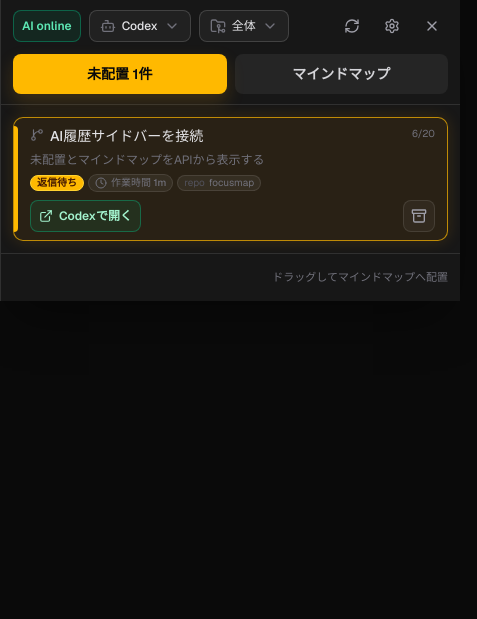
Test: CodexChatImportSidebar › prefers completed activity metadata over synced rally duration for inline work status
Click the button with test id "codex-chat-import-row-history-1": (230, 179) [13, 117, 448, 241]
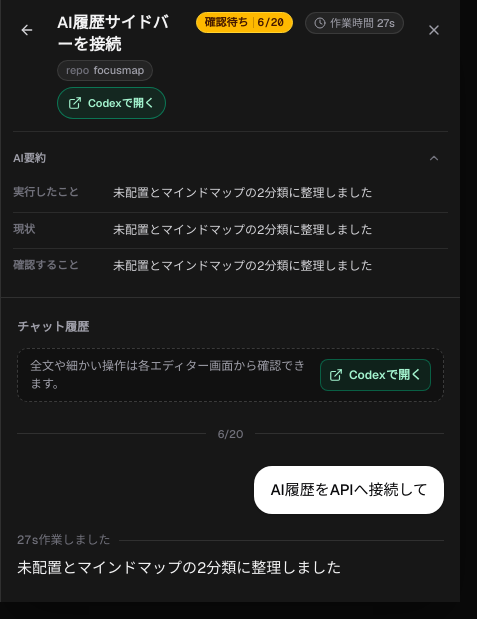
Check: the element labelled "27s作業しました" is shown, box [17, 532, 111, 548]
